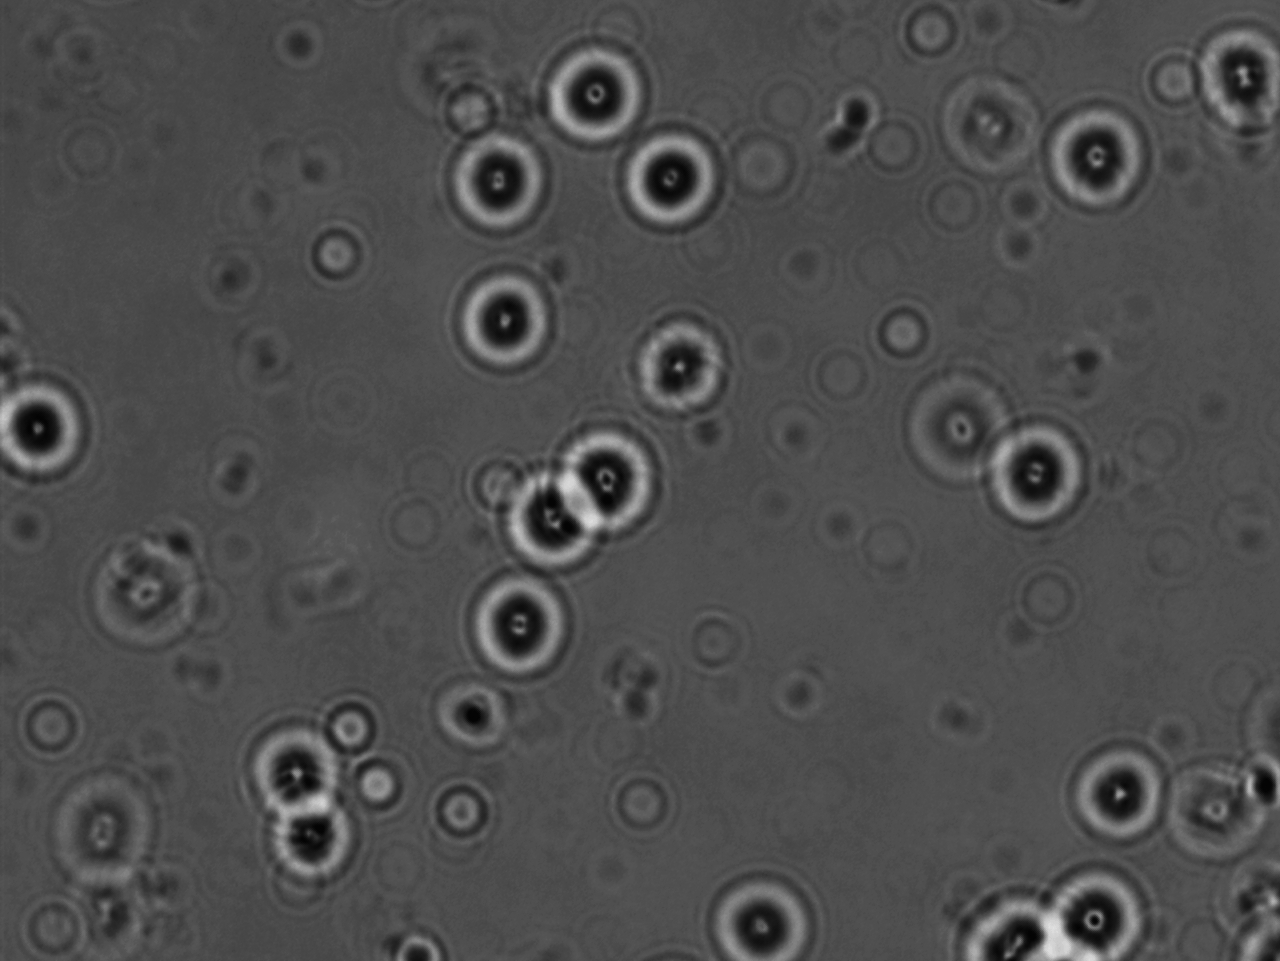depth:-8: (443, 248, 567, 377), (967, 411, 1107, 523), (706, 863, 856, 961), (1037, 100, 1156, 221), (437, 120, 555, 242), (612, 117, 726, 236), (631, 304, 740, 428), (545, 422, 666, 531), (451, 571, 573, 678), (1049, 850, 1168, 958), (1060, 735, 1169, 848), (237, 721, 360, 821), (540, 32, 650, 143), (257, 793, 376, 889), (491, 463, 596, 568), (951, 885, 1057, 961)
